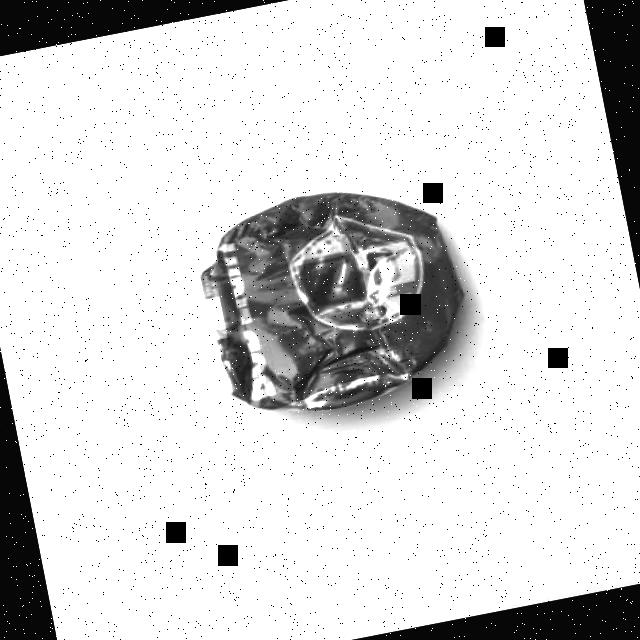can: (189, 172, 476, 430)
